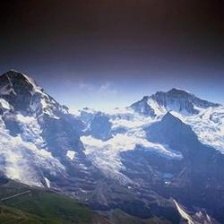neutral: (1, 52, 224, 221)
